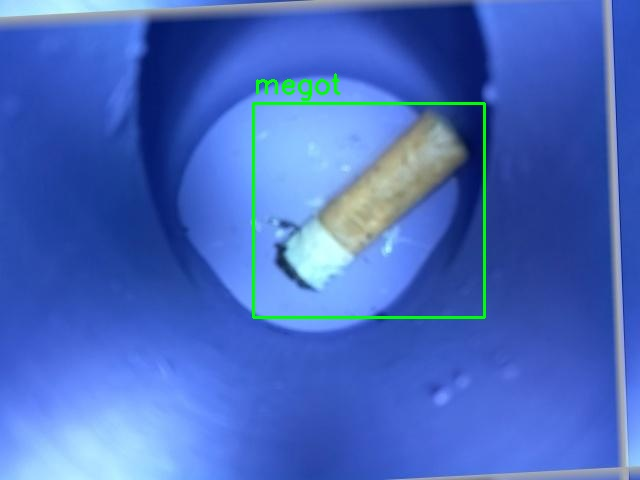megot: (253, 103, 484, 317)
